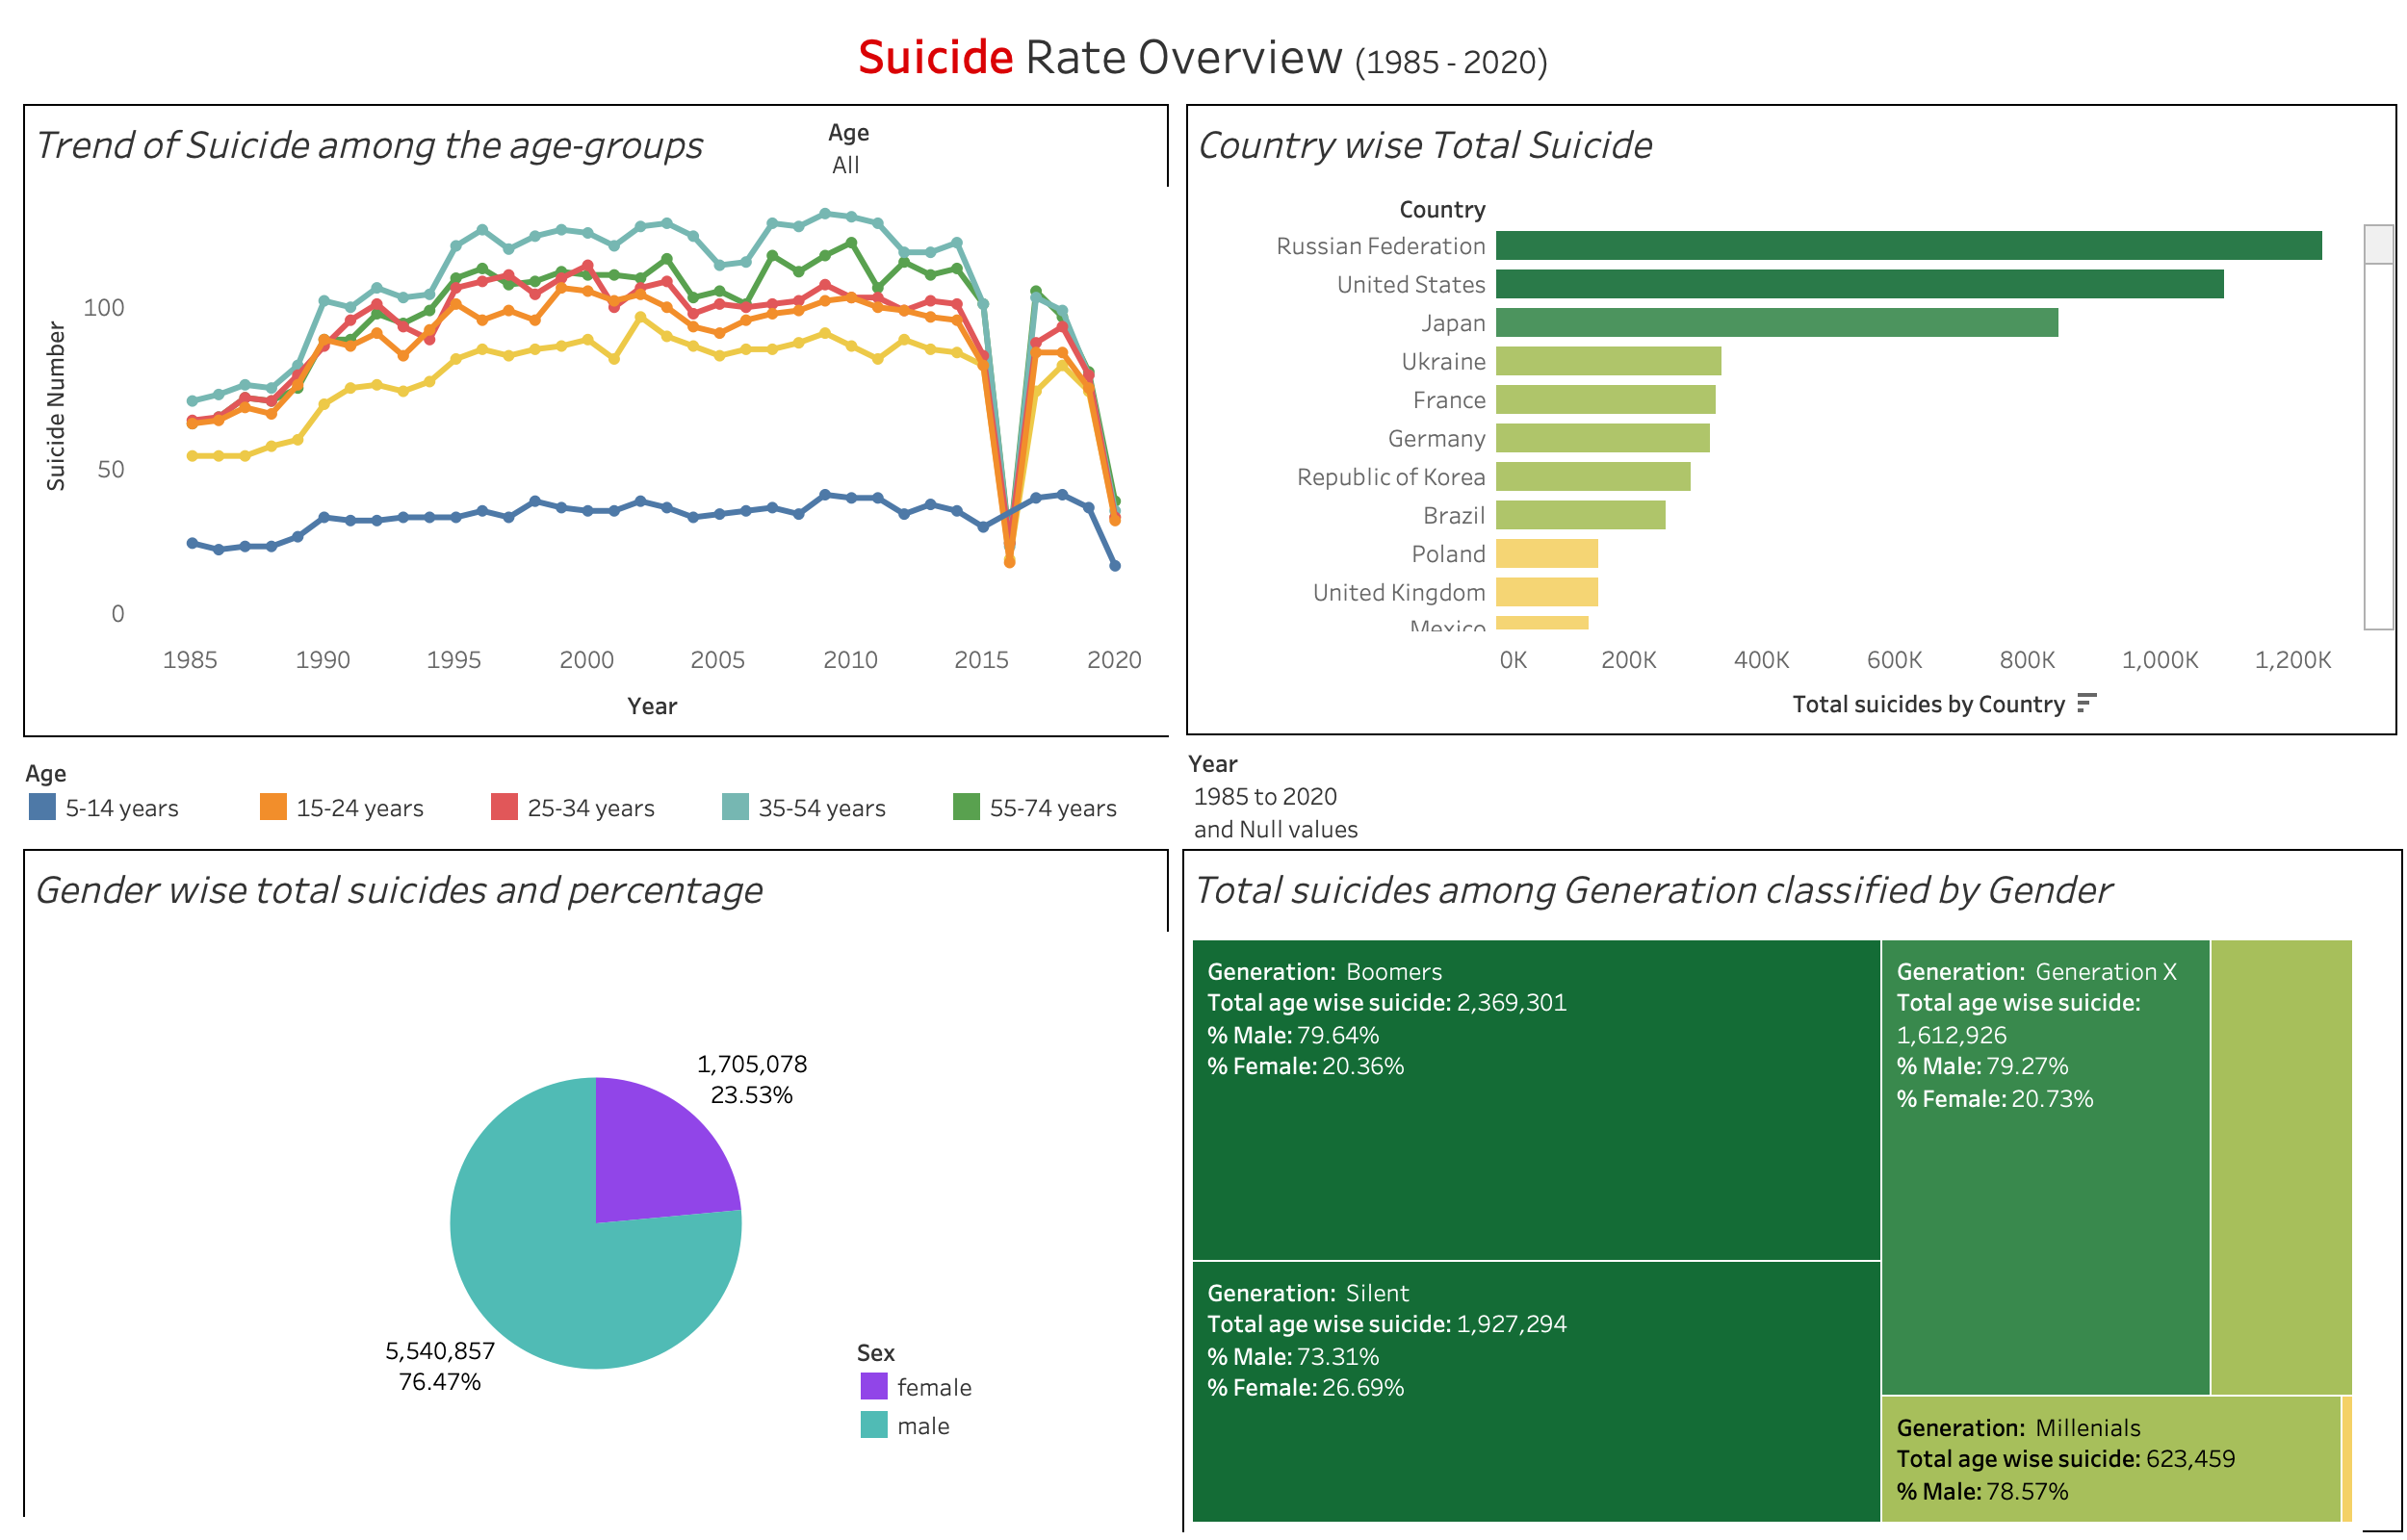

What the dashboard file says about the page in this screenshot:
{"tool":"tableau","page":{"name":"Suicide Rate Overview - Dashboard","canvas":[1250,800],"ordinal":0},"visuals":[{"type":"title","box":[8,8,1234,42]},{"type":"worksheet","title":"Suicide Trend - Line","mark":"Line","rows":["suicides_no"],"cols":["year"],"box":[8,50,603,337]},{"type":"worksheet","title":"Total Suicide Country - Bar","mark":"Automatic","rows":["country"],"cols":["suicides_no"],"box":[616,54,629,328]},{"type":"filter","title":"Total Suicide Country - Bar","param":"[federated.13had1h03od0vr1eliysc19zqtjo].[none:age:nk]","box":[430,59,173,46]},{"type":"legend","title":"Suicide Trend - Line","param":"[federated.13had1h03od0vr1eliysc19zqtjo].[none:age:nk]","box":[8,387,603,50]},{"type":"filter","title":"Total Suicide Country - Bar","param":"[federated.13had1h03od0vr1eliysc19zqtjo].[none:year:qk]","box":[617,387,626,51]},{"type":"worksheet","title":"Total Suicide Gender - Pie","mark":"Pie","box":[8,437,603,355]},{"type":"worksheet","title":"Generation Classification - Tree","mark":"Automatic","box":[614,441,634,355]},{"type":"legend","title":"Total Suicide Gender - Pie","param":"[federated.13had1h03od0vr1eliysc19zqtjo].[none:sex:nk]","box":[444,692,146,58]}]}

Visuals, with their boxes in screenshot pixels (x1, y1, x2, y2), scaled from the page's 1250x800 canvas onto the 2407x1540 screenshot:
title: detection(15, 15, 2392, 96)
"Suicide Trend - Line" worksheet (Line marks): detection(15, 96, 1177, 745)
"Total Suicide Country - Bar" worksheet: detection(1186, 104, 2397, 735)
"Total Suicide Country - Bar" filter: detection(828, 114, 1161, 202)
"Suicide Trend - Line" legend: detection(15, 745, 1177, 841)
"Total Suicide Country - Bar" filter: detection(1188, 745, 2394, 843)
"Total Suicide Gender - Pie" worksheet (Pie marks): detection(15, 841, 1177, 1525)
"Generation Classification - Tree" worksheet: detection(1182, 849, 2403, 1532)
"Total Suicide Gender - Pie" legend: detection(855, 1332, 1136, 1444)
